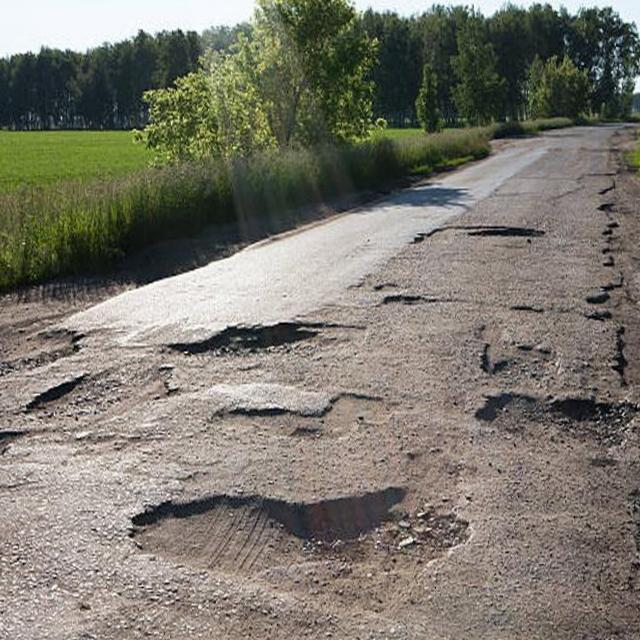Lubang: (124, 490, 465, 576), (468, 396, 633, 460), (155, 320, 336, 369), (32, 368, 177, 425)
Pinggir: (584, 172, 640, 400)
